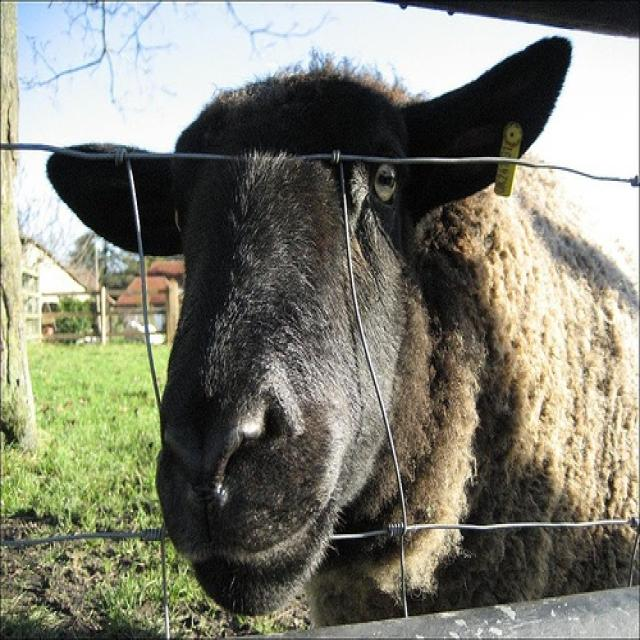sheep: (47, 36, 639, 616)
